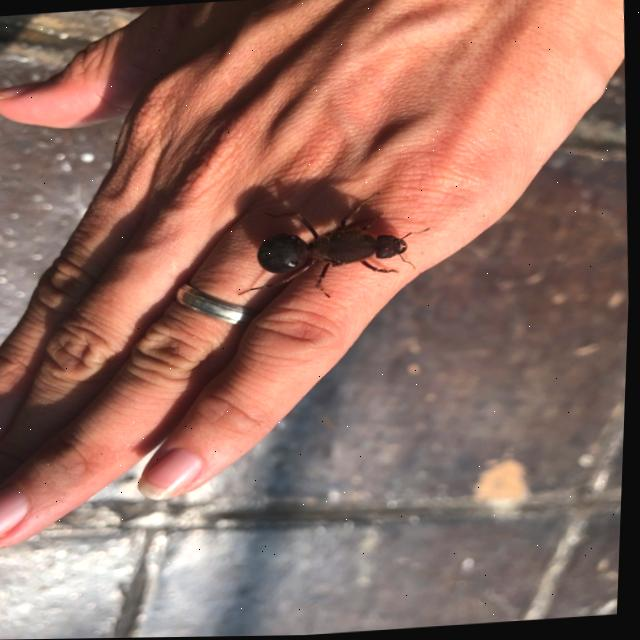Alive-Female-Dealate: (235, 190, 436, 305)
